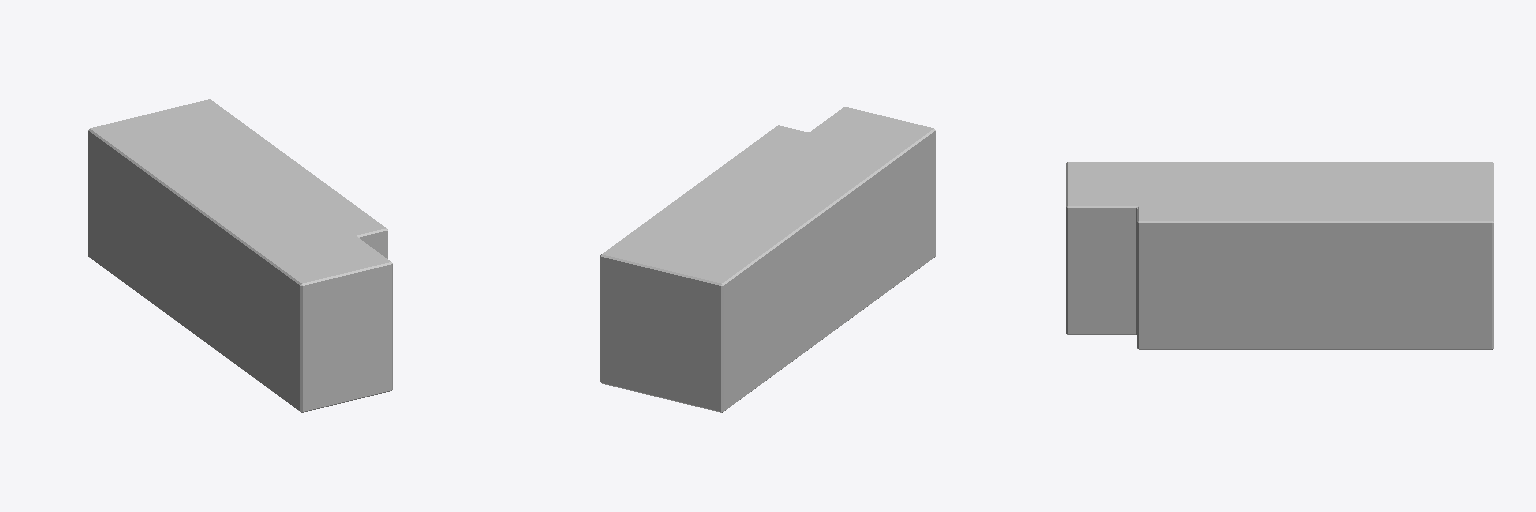
File: demo_diff.obj
3 renders of one model, left to right at view 1: azimuth 30°, elevation 25°; view 2: azimuth 150°, elevation 25°; view 3: azimuth 270°, elevation 25°, orthographic.
Size of the model in its own units: 4 by 4 by 12.